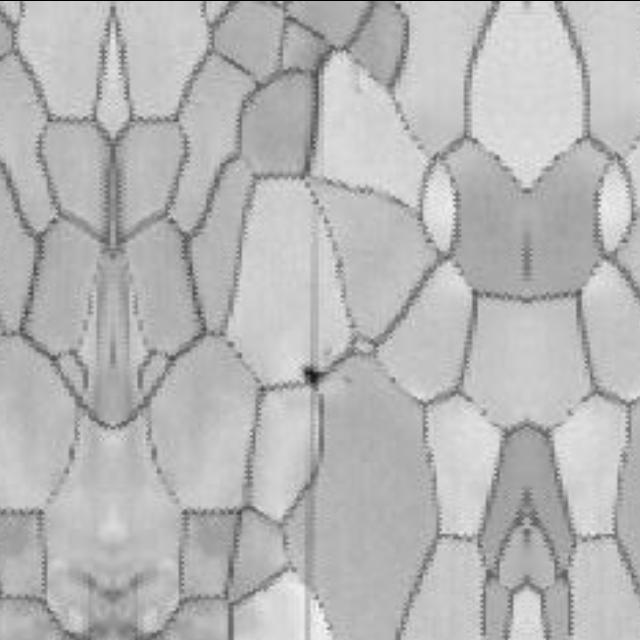good_void: (302, 364, 326, 390)
